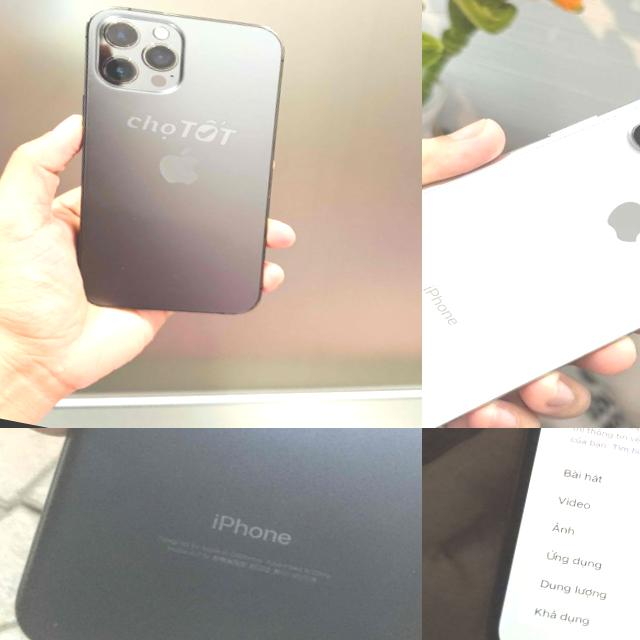gen_12_13: (31, 0, 317, 337), (463, 428, 640, 640)
gen_7_8: (7, 428, 422, 640)
gen_x_xs: (422, 11, 640, 428)
